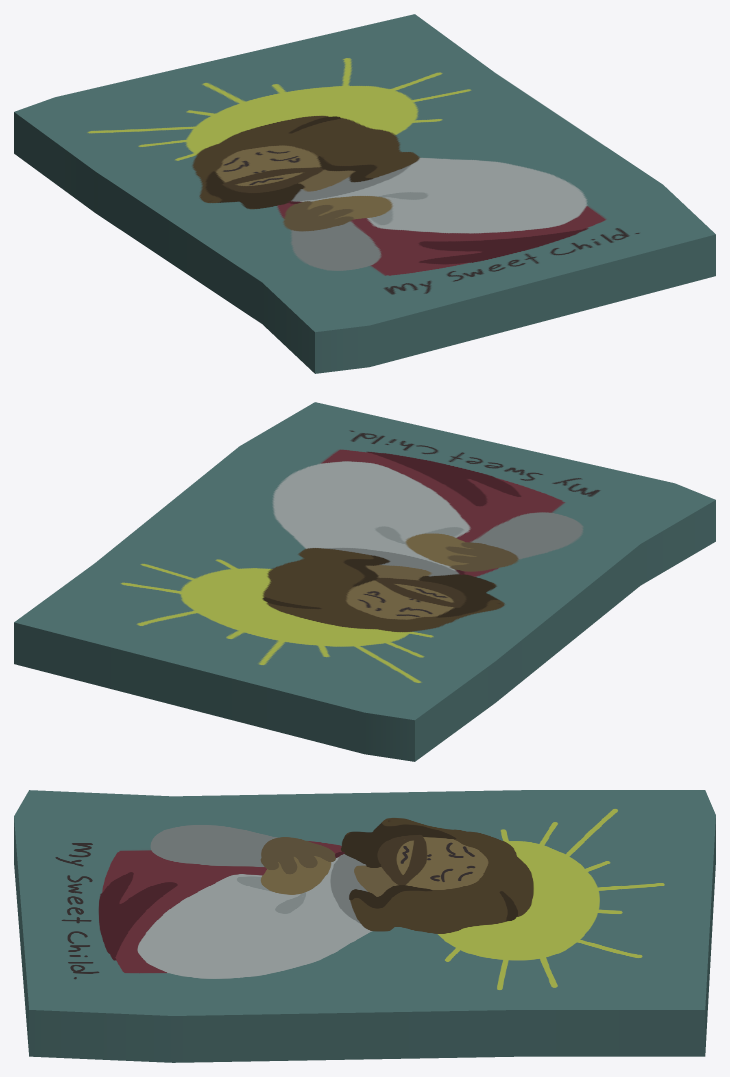
The model's file is Poster_3.fbx.
3 renders of one model, top to bottom at view 1: azimuth 30°, elevation 25°; view 2: azimuth 150°, elevation 25°; view 3: azimuth 270°, elevation 25°, orthographic. The views are drawn at different scales.
Parts seen in each view (by area): view 1: pCube2; view 2: pCube2; view 3: pCube2.
Boxes of the visible parts, left/top/right/bottom form: pCube2: left=14, top=14, right=715, bottom=373; pCube2: left=14, top=402, right=715, bottom=761; pCube2: left=14, top=790, right=715, bottom=1062.
Bounding box in the file's own units: 10.35 × 1 × 13.59.
